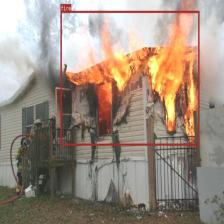fire: (61, 11, 199, 145)
